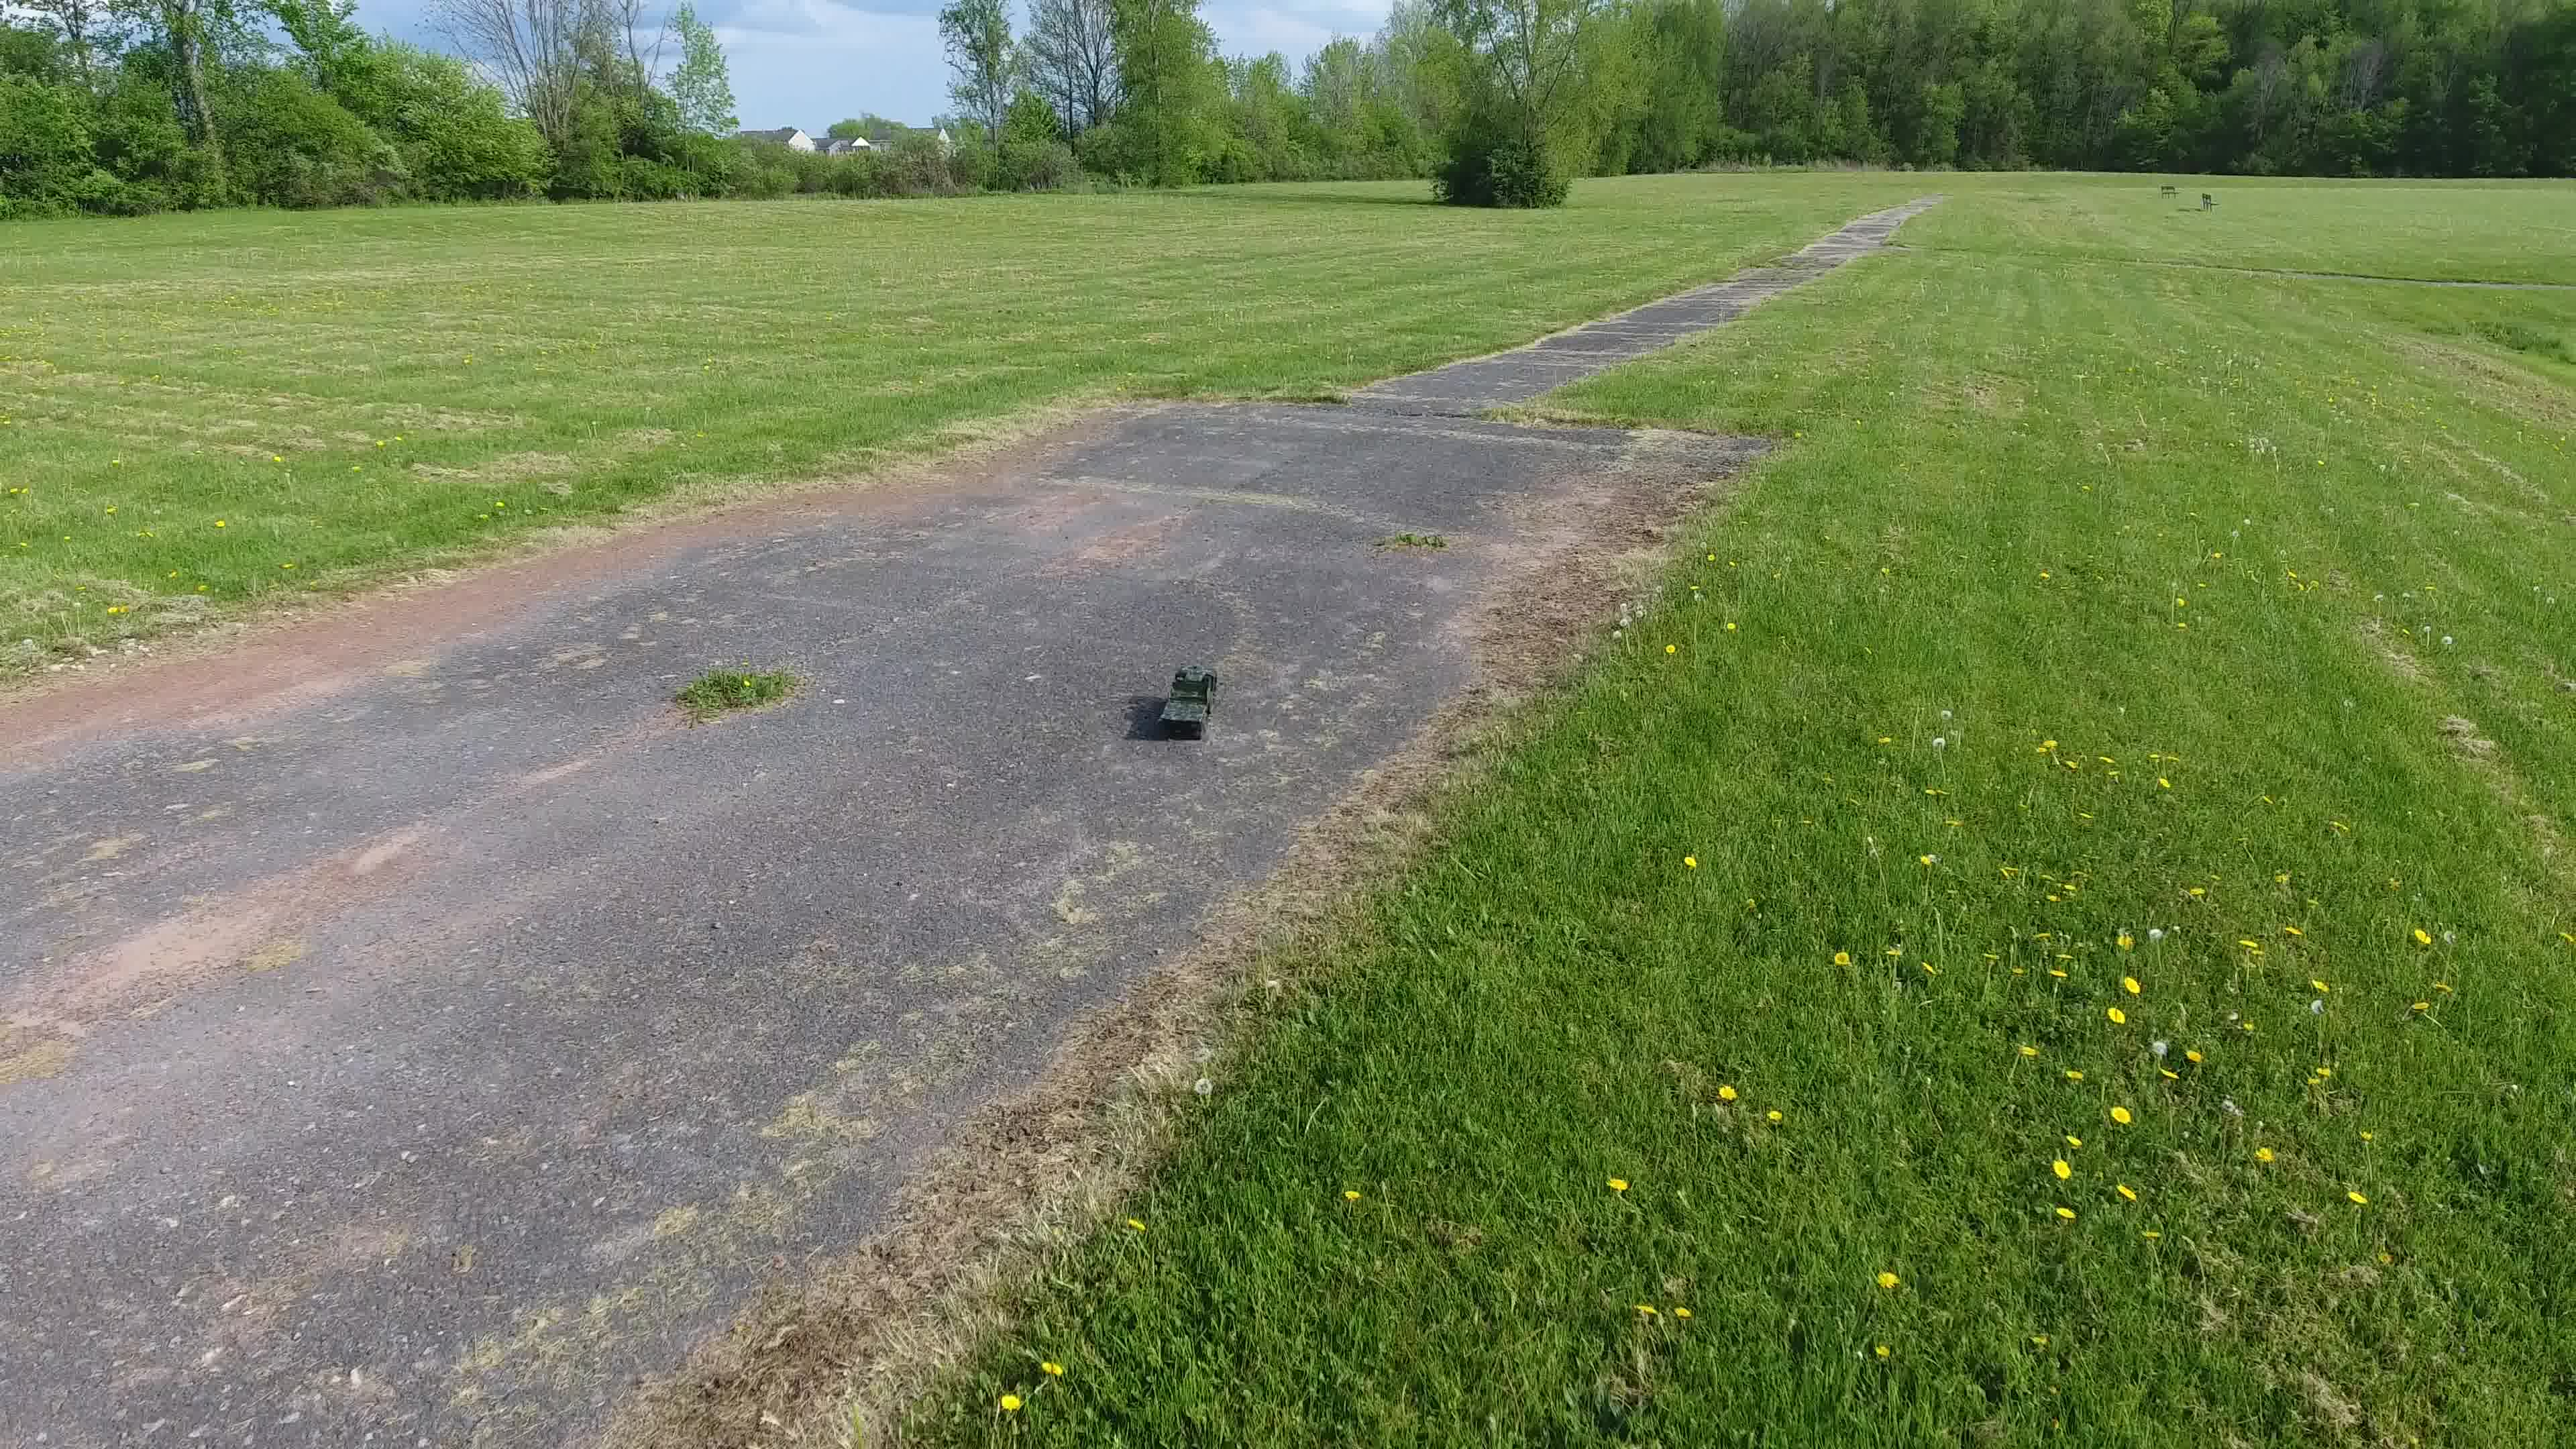transporter9_camo: (1150, 663, 1221, 743)
